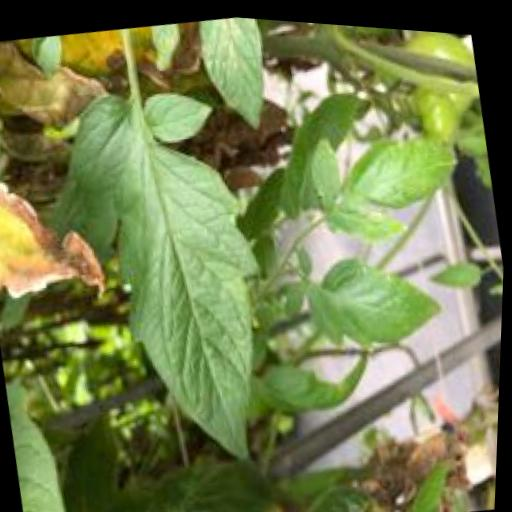Healthy: (38, 64, 301, 491), (299, 235, 446, 354)
